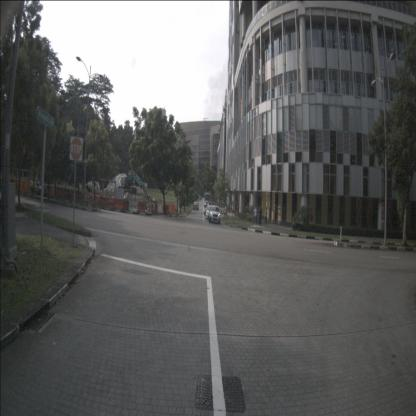barrier: (114, 198, 124, 210), (129, 200, 138, 212), (166, 204, 175, 214), (138, 202, 146, 213), (146, 203, 152, 215), (157, 204, 163, 212), (152, 204, 157, 213)
